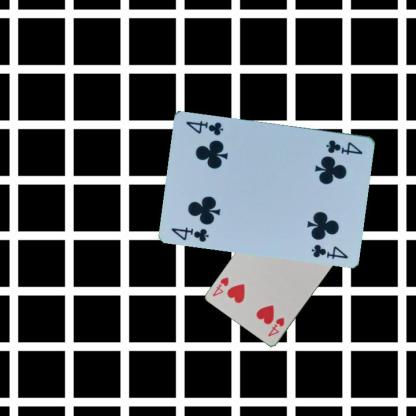4c: (169, 224, 210, 243), (324, 137, 364, 156)
4h: (266, 315, 286, 338)
